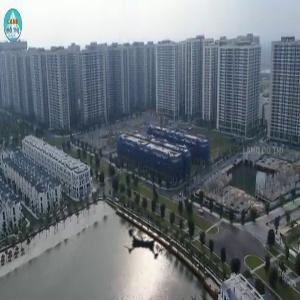drone: (108, 202, 187, 281)
